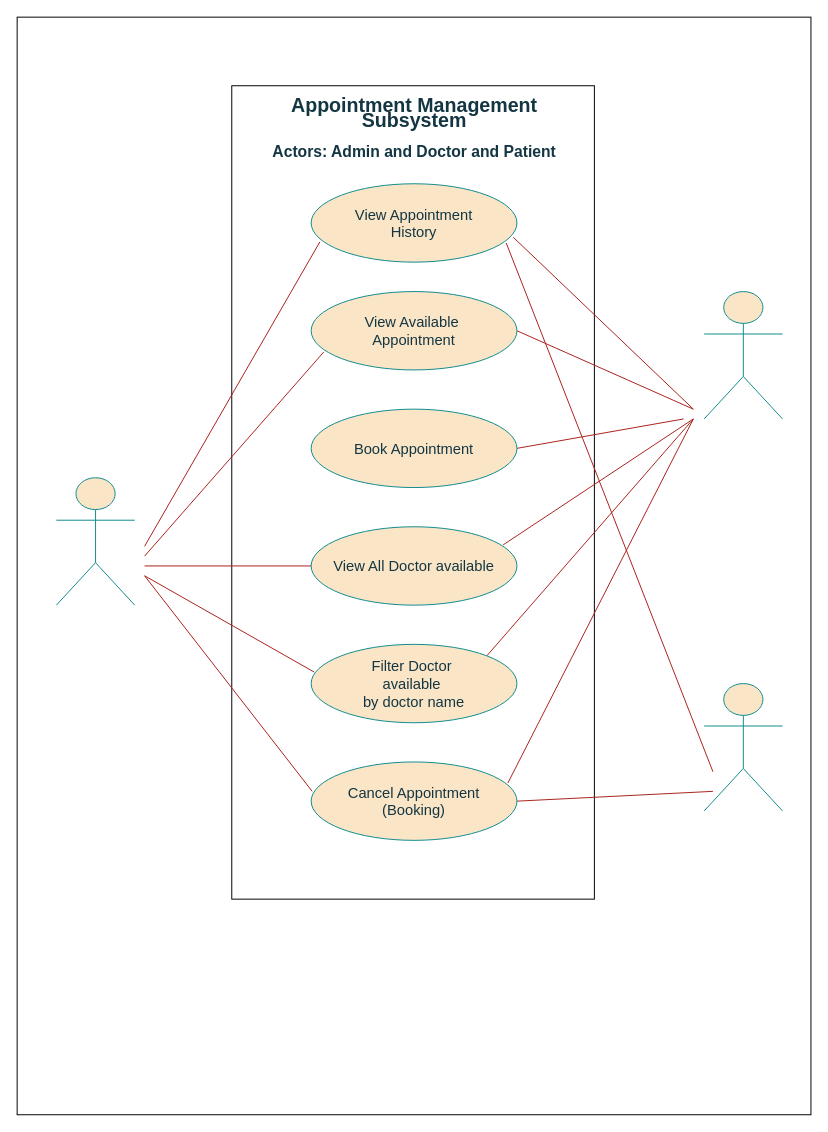
This 828x1132 diagram has some shape labels left out. The shapes that lost their labels are listed below. From the top down, each one's centre as x and y in pixels, then its label:
[743,355]: Patient
[95,541]: Admin
[743,747]: Doctor
